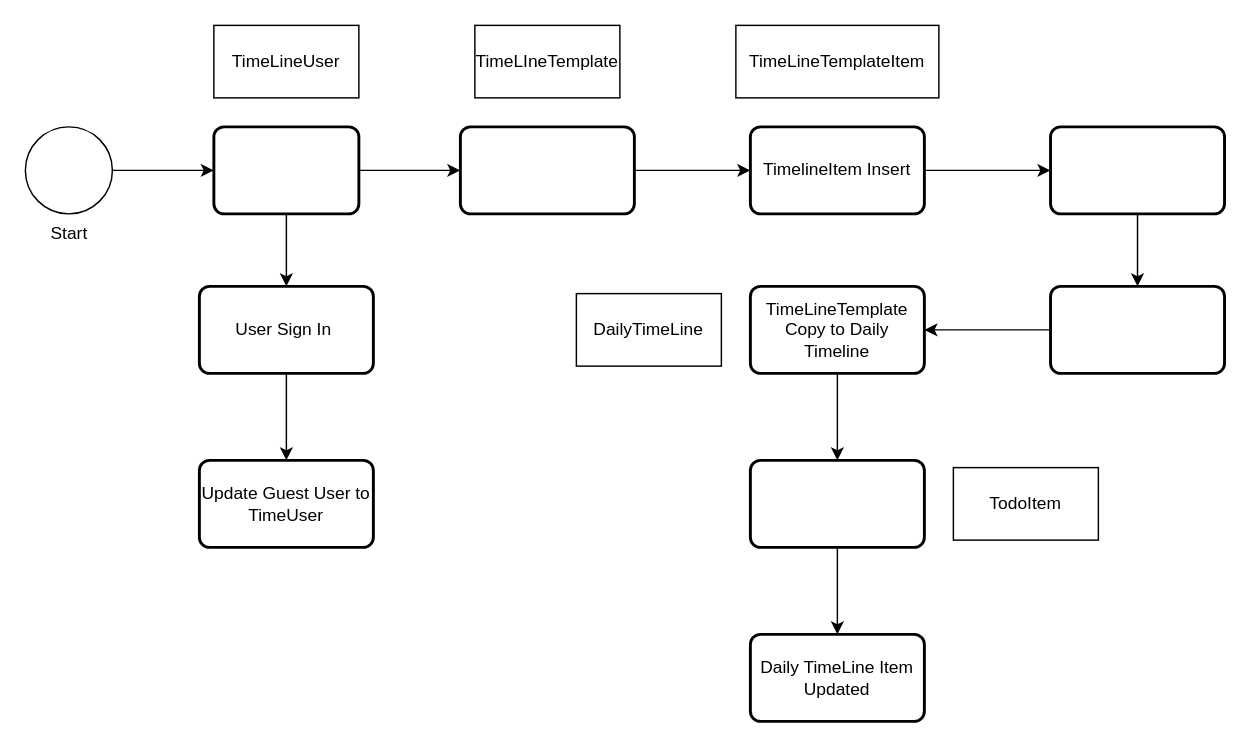
Some shapes in this 1251 by 748 pixel diagram are drawn without their labels. The centre of each missing label's shape, as x and y in pixels:
Daily TimeLIne Item Copied Too: (836,503)
Guest User Insert: (286,170)
Timeline Selected for copying Daily TimeLIne: (1136,329)
TimeLIne View: (1136,170)
TimelineTemplate Insert: (546,170)
